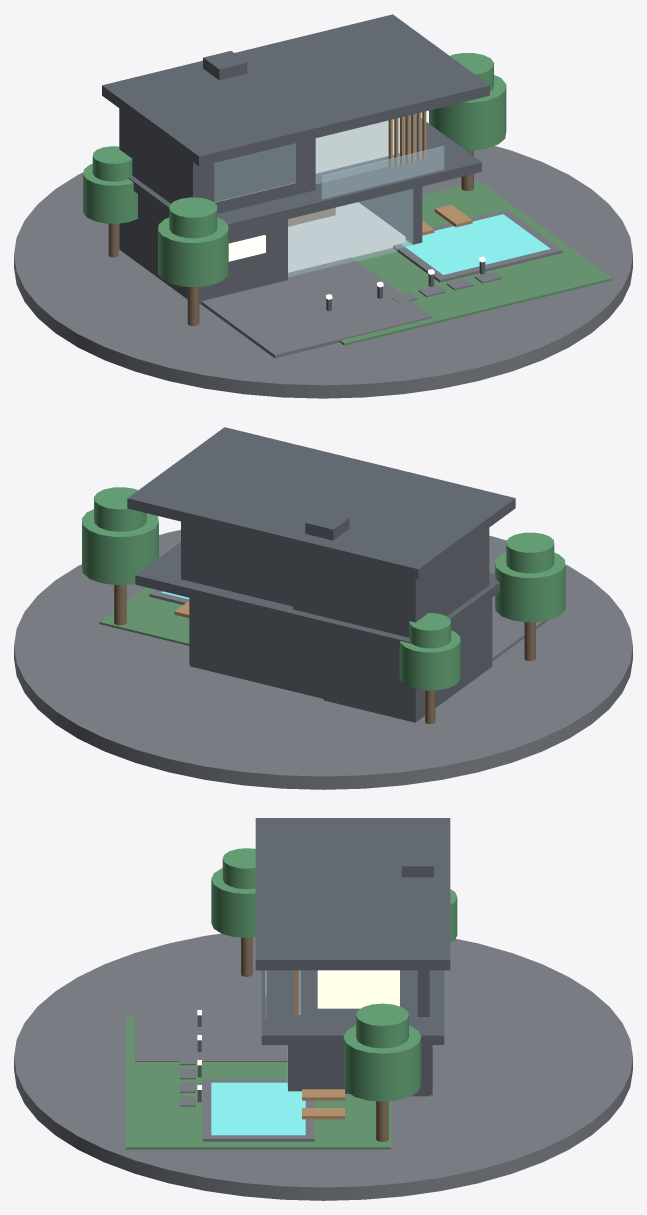
The model's file is house.glb.
The picture shows the model from 3 angles, top to bottom: view 1: azimuth 30°, elevation 25°; view 2: azimuth 150°, elevation 25°; view 3: azimuth 270°, elevation 25°; orthographic projection.
Parts seen in each view (by area): view 1: ModernGlassVilla; view 2: ModernGlassVilla; view 3: ModernGlassVilla.
Part boxes in pixels (x1=…): ModernGlassVilla: x1=14, y1=14, x2=632, y2=398; ModernGlassVilla: x1=14, y1=427, x2=632, y2=789; ModernGlassVilla: x1=14, y1=818, x2=632, y2=1200.
Size of the model in its own units: 21 by 6.95 by 21.
